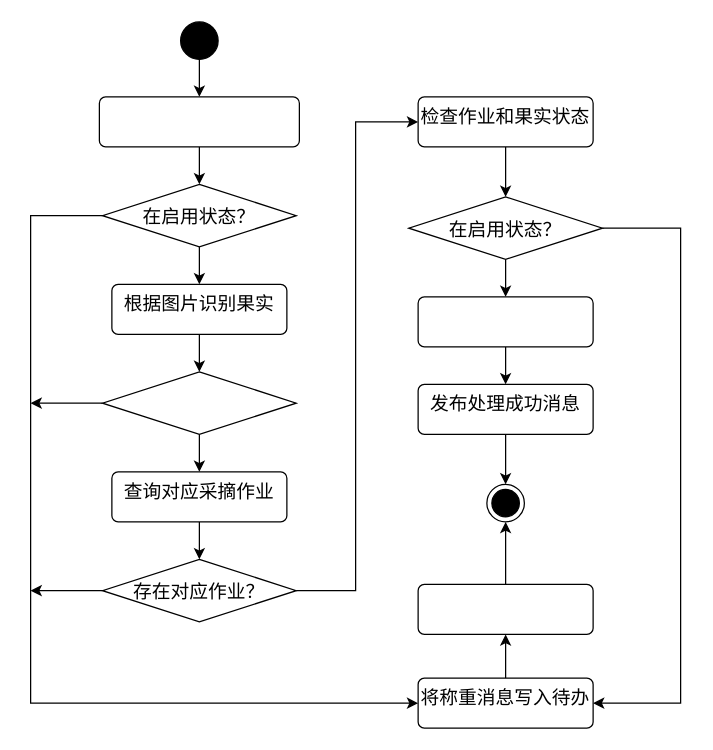
Some shapes in this 713 by 750 pixel diagram are drawn without their labels. Each missing label, with the centre of its shape:
发布处理失败消息: [505,608]
持久化称重信息: [505,321]
检查员工和电子秤状态: [198,121]
识别成功？: [198,402]
